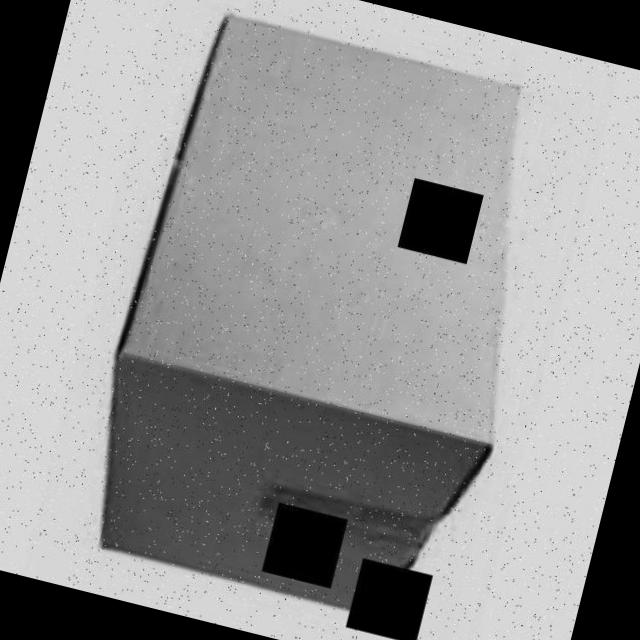box: (63, 1, 583, 640)
